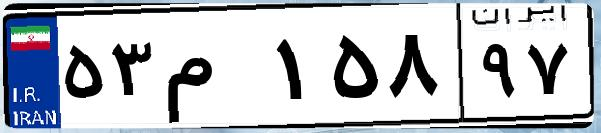1: (270, 28, 330, 110)
3: (110, 28, 158, 98)
5: (330, 28, 385, 110), (57, 26, 110, 100)
7: (525, 38, 570, 115)
8: (385, 28, 445, 110)
9: (475, 38, 525, 113)
م: (158, 20, 270, 120)
